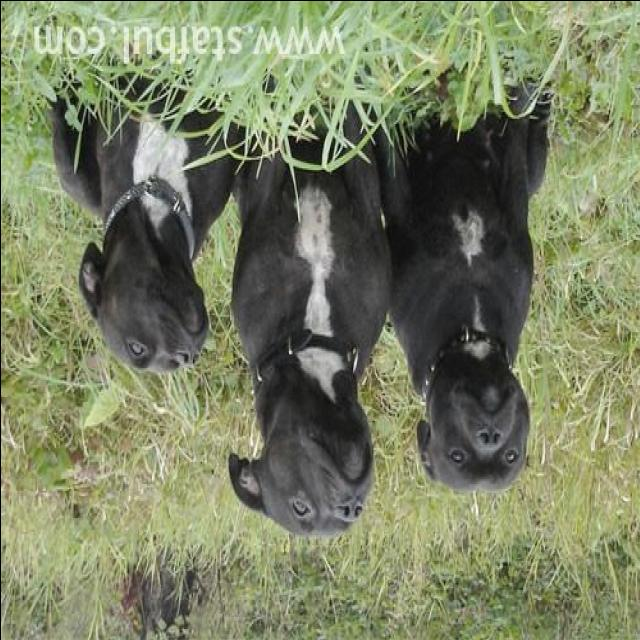staffordshire_bullterrier: (224, 104, 387, 541), (386, 86, 548, 492), (48, 49, 240, 376)
